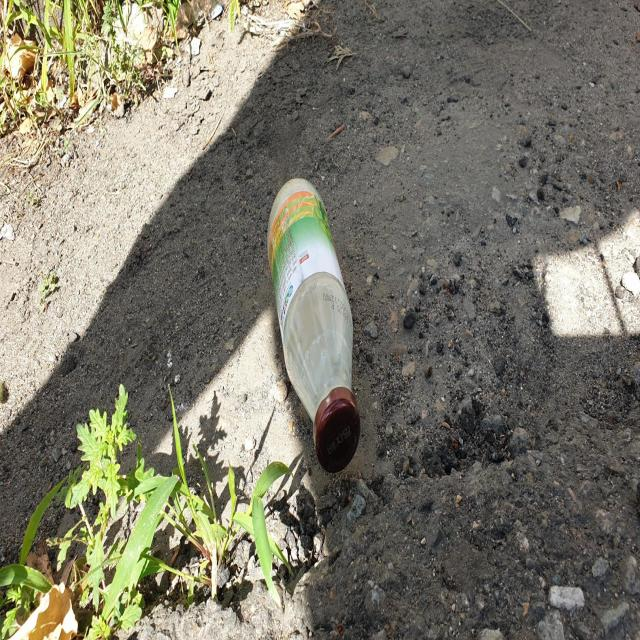glass: (267, 177, 360, 472)
